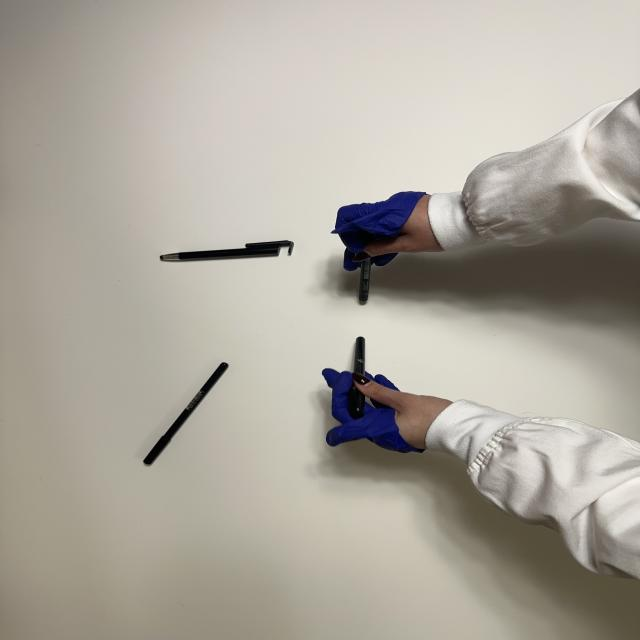glove_partial: (318, 366, 446, 457), (328, 188, 457, 272)
